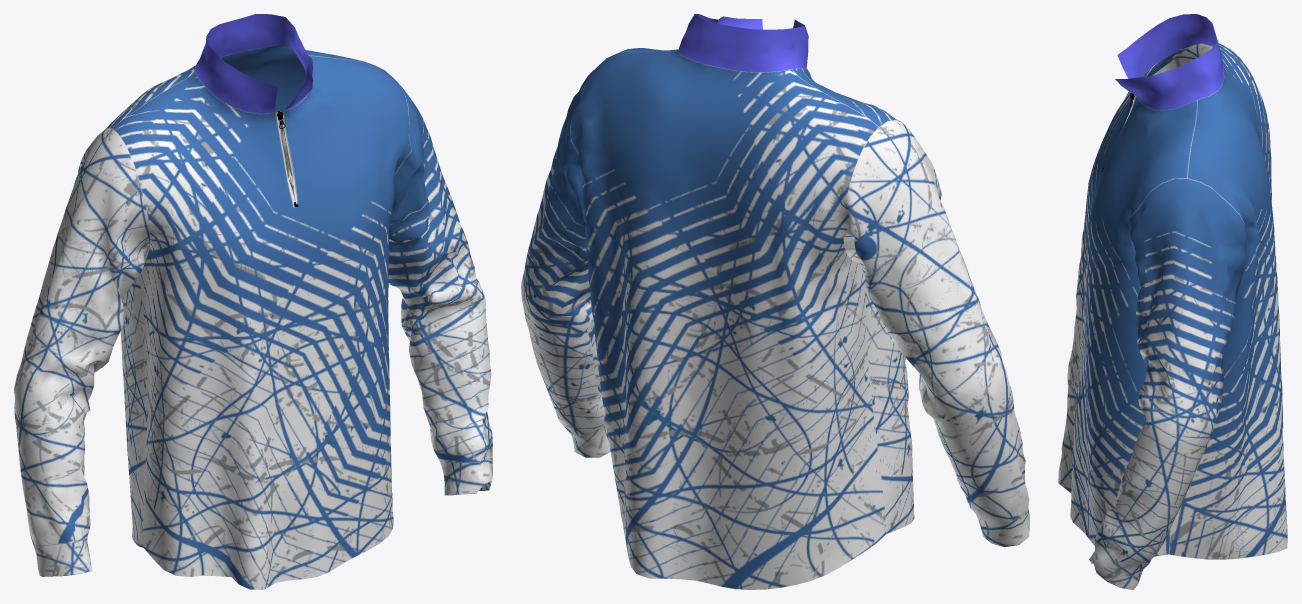
The picture shows the model from 3 angles, left to right: view 1: azimuth 30°, elevation 25°; view 2: azimuth 150°, elevation 25°; view 3: azimuth 270°, elevation 25°; orthographic projection. The views are drawn at different scales.
Visible parts, largest first — view 1: 4; view 2: 4; view 3: 4.
Boxes of the visible parts, x1,y1,x2,y2 form: 4: (14,14,492,589); 4: (521,14,1029,589); 4: (1058,14,1287,589).
Size of the model in its own units: 0.6926 by 0.7373 by 0.31.
Materials: 8 (8 with a texture image).
